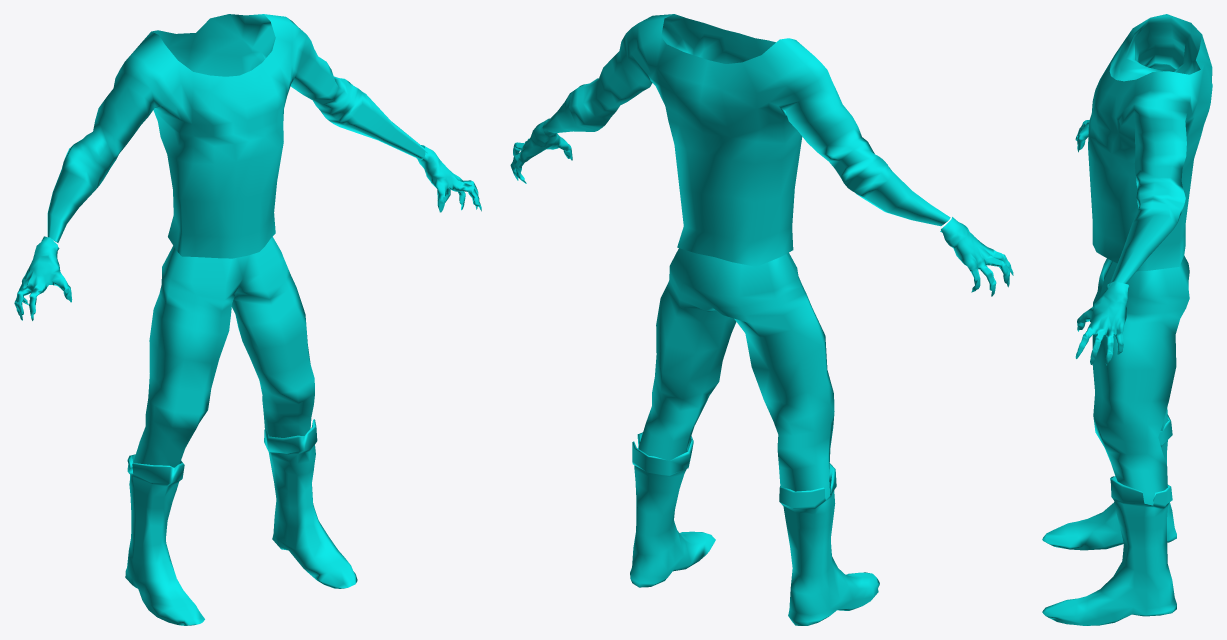
Rendered from Body.fbx.
The picture shows the model from 3 angles, left to right: view 1: azimuth 30°, elevation 25°; view 2: azimuth 150°, elevation 25°; view 3: azimuth 270°, elevation 25°; orthographic projection. The views are drawn at different scales.
Visible parts, largest first — view 1: body3, body9, body1, body7, body5; view 2: body3, body9, body1, body7, body5; view 3: body3, body9, body1, body5, body7.
Part boxes in pixels (x1=…): body3: x1=47, y1=14, x2=427, y2=258; body9: x1=133, y1=236, x2=314, y2=473; body1: x1=125, y1=419, x2=357, y2=625; body7: x1=14, y1=236, x2=72, y2=320; body5: x1=416, y1=145, x2=481, y2=212; body3: x1=545, y1=14, x2=950, y2=266; body9: x1=638, y1=248, x2=834, y2=499; body1: x1=630, y1=432, x2=879, y2=625; body7: x1=940, y1=217, x2=1013, y2=296; body5: x1=510, y1=118, x2=572, y2=183; body3: x1=1088, y1=14, x2=1212, y2=285; body9: x1=1092, y1=255, x2=1189, y2=505; body1: x1=1042, y1=414, x2=1176, y2=625; body5: x1=1075, y1=281, x2=1129, y2=365; body7: x1=1075, y1=120, x2=1089, y2=152.
Bounding box in the file's own units: 129 × 146 × 41.5.
